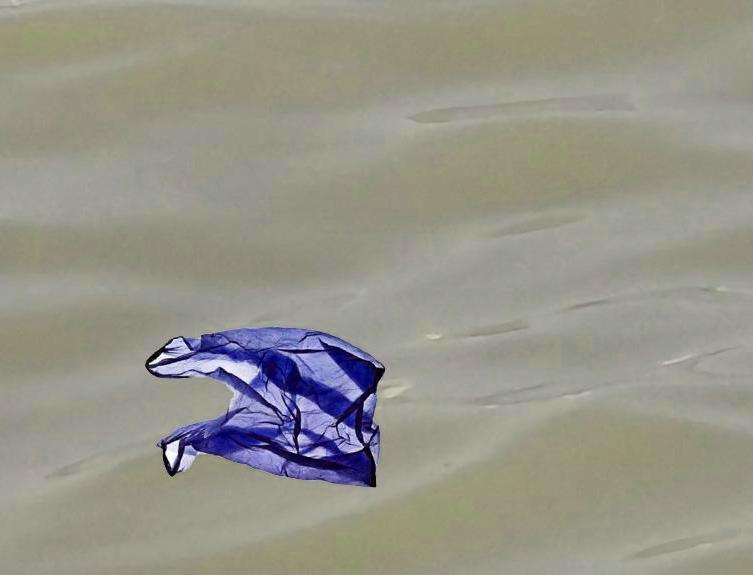Trash: (144, 323, 387, 488)
